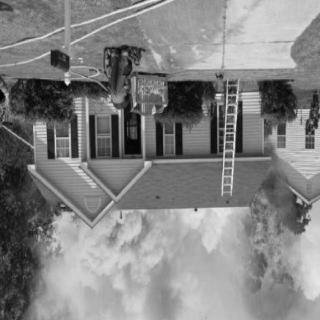Fire: (233, 182, 301, 302)
Smoke: (21, 213, 258, 317)
